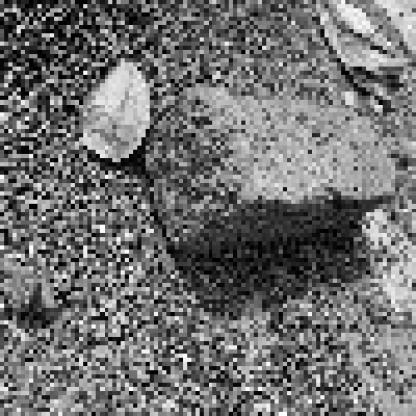brick: (143, 85, 398, 257), (77, 61, 151, 162)
